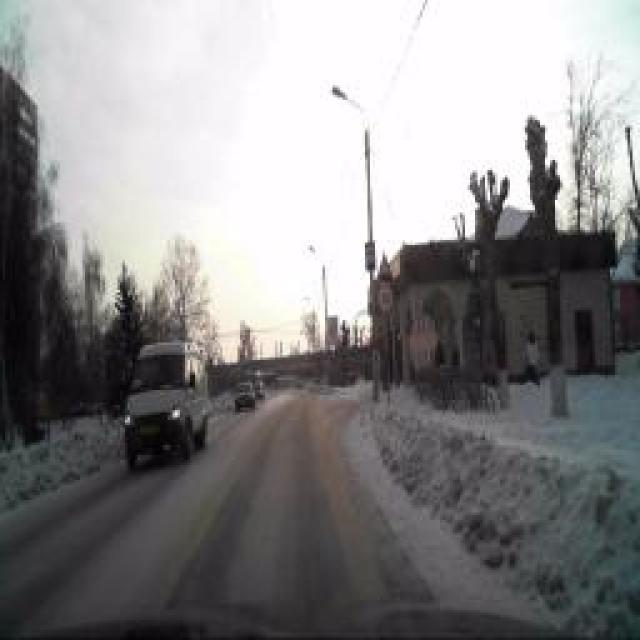sign: (378, 285, 392, 313)
